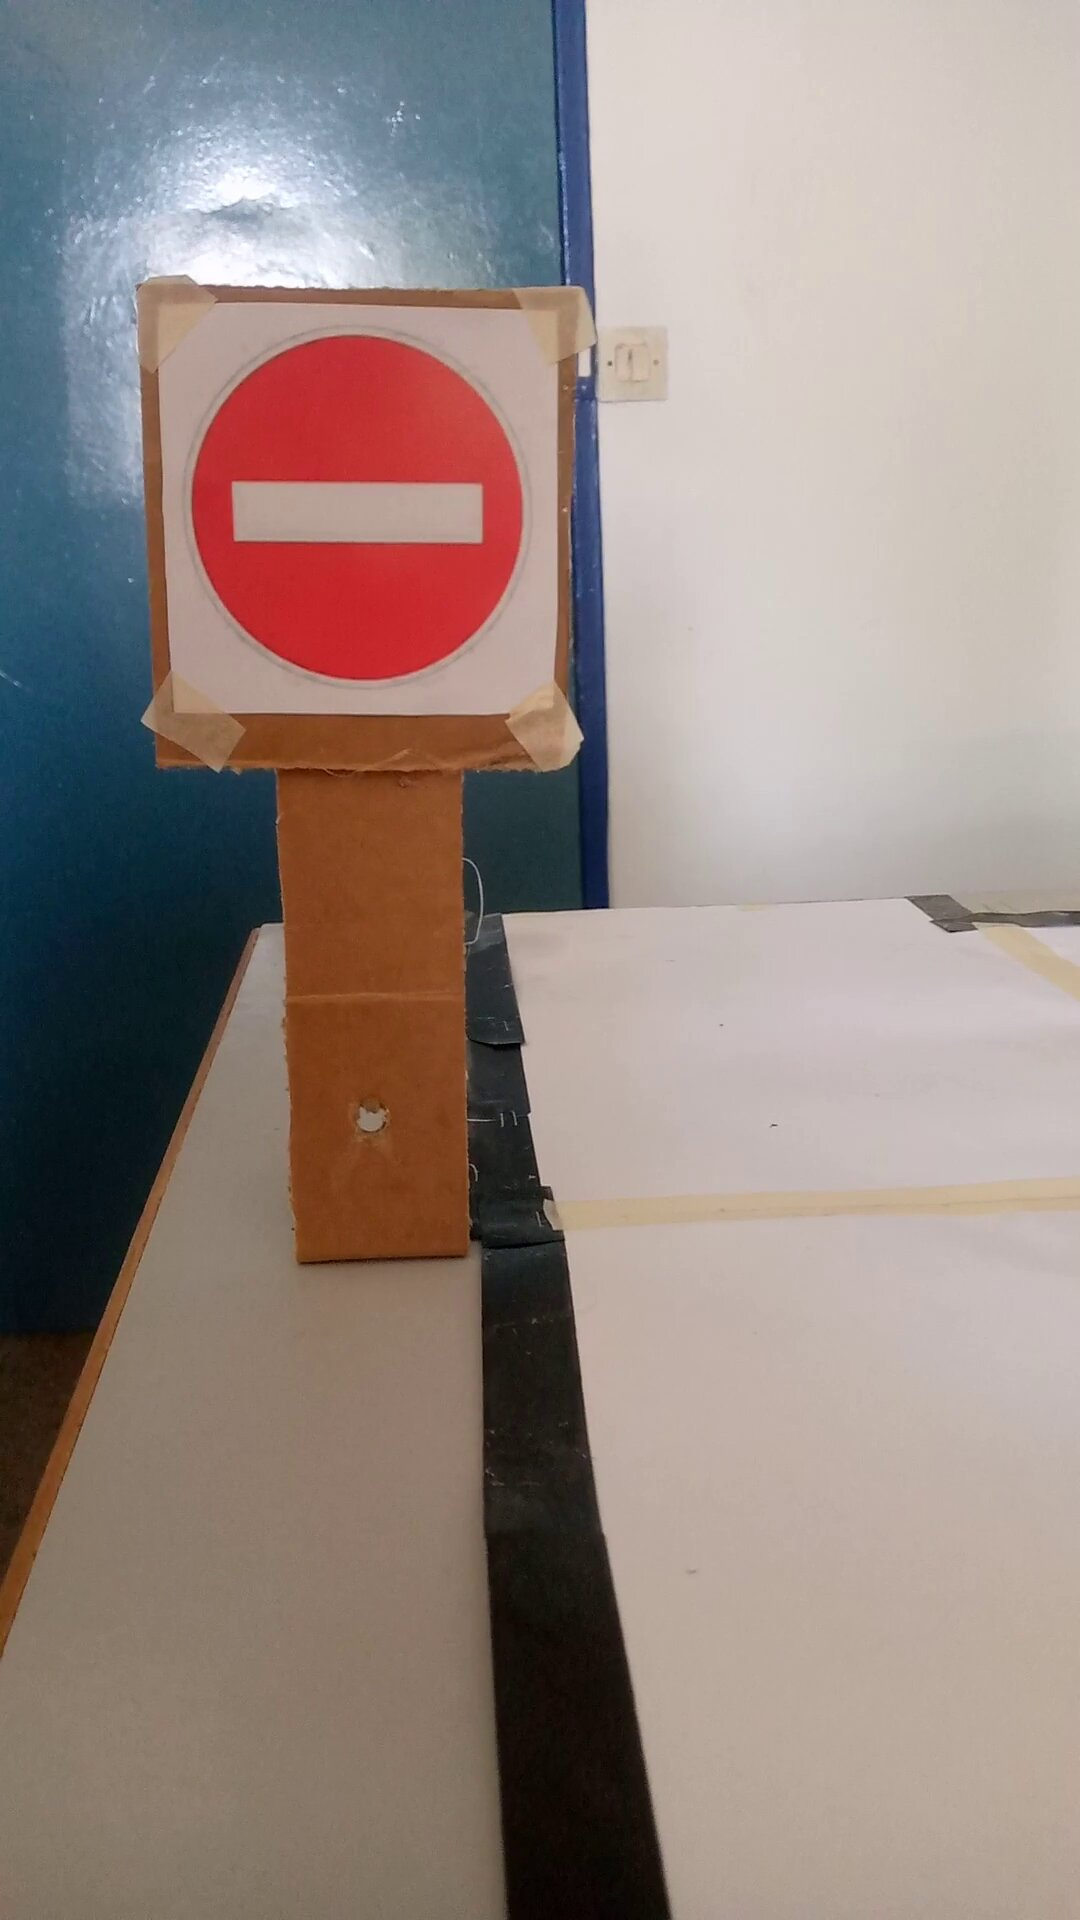panel010: (133, 280, 567, 749)
